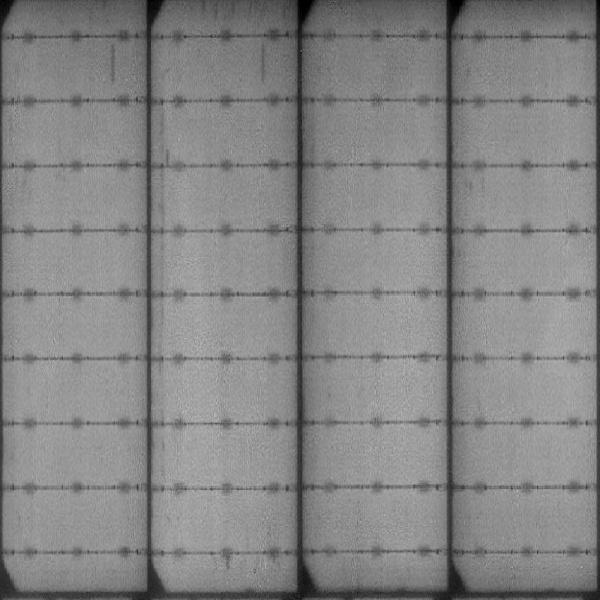scratch: (108, 45, 122, 84), (257, 47, 268, 85)
